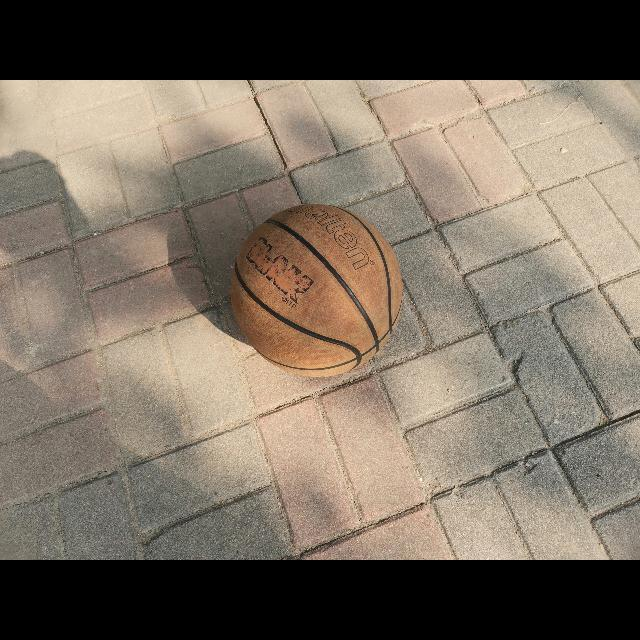basketball: (232, 205, 404, 378)
